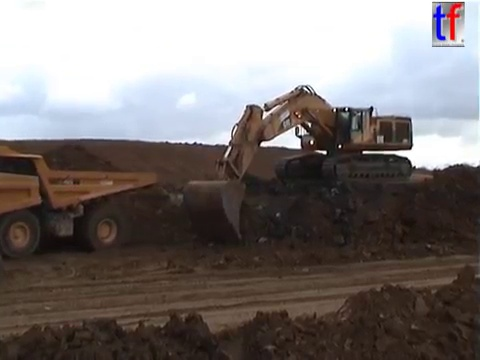excavator: (180, 82, 417, 243)
truck: (1, 143, 158, 259), (1, 168, 44, 216)
